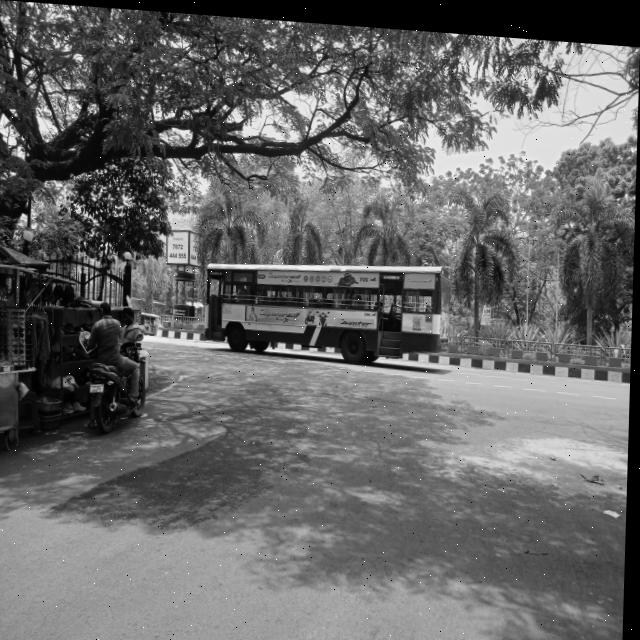bike: (91, 335, 157, 431)
bus: (201, 244, 460, 366)
